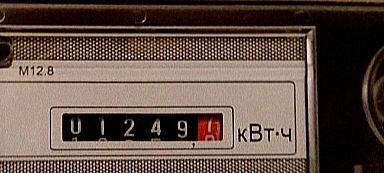0: (67, 116, 82, 136)
1: (94, 116, 107, 137)
2: (119, 117, 136, 139)
4: (148, 117, 162, 137)
7: (202, 113, 216, 133)
9: (174, 118, 188, 140)
screen: (45, 102, 237, 153)
